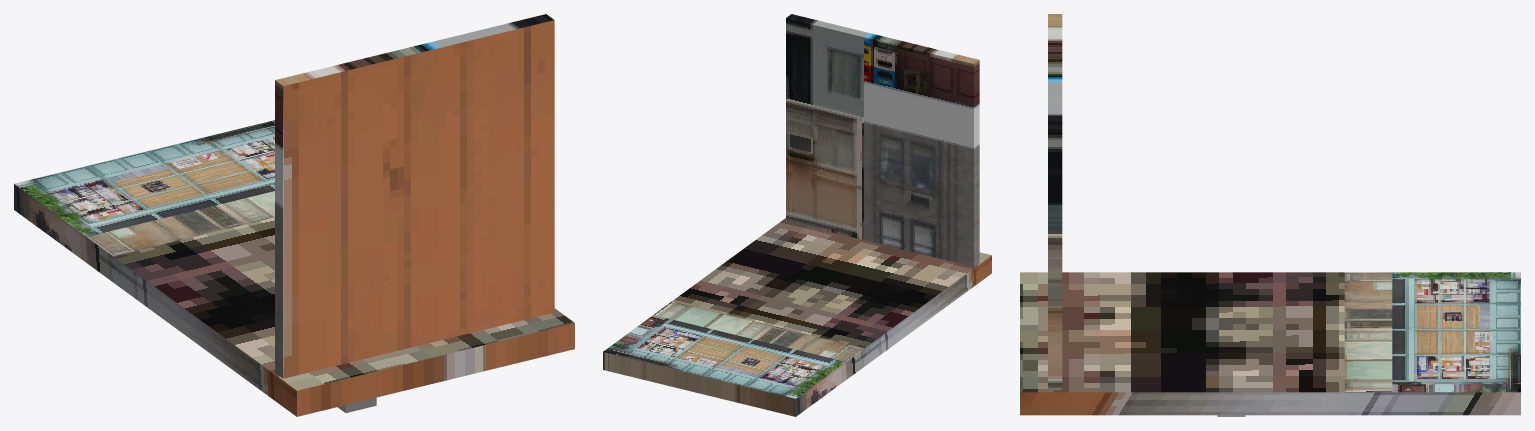
Rendered from 176_lowrise2Wall.gltf.
3 renders of one model, left to right at view 1: azimuth 30°, elevation 25°; view 2: azimuth 150°, elevation 25°; view 3: azimuth 270°, elevation 25°, orthographic. The views are drawn at different scales.
Visible parts, largest first — view 1: lowrise2Wall; view 2: lowrise2Wall; view 3: lowrise2Wall.
Boxes of the visible parts, x1,y1,x2,y2 form: lowrise2Wall: (14,14,574,416); lowrise2Wall: (603,14,991,416); lowrise2Wall: (1020,14,1520,416).
Bounding box in the file's own units: 4.09 × 4.71 × 7.21.
1 material, 1 textured.
